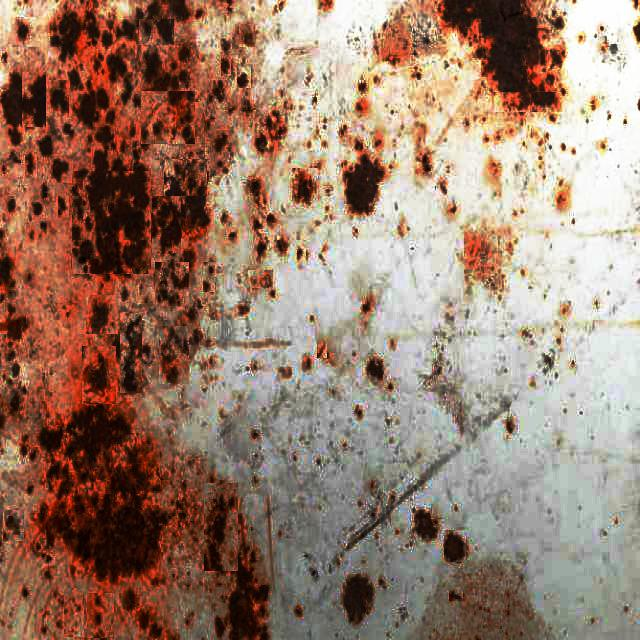Corrosion: (38, 406, 168, 582), (440, 0, 564, 108), (73, 152, 150, 274), (225, 517, 269, 640), (152, 196, 209, 255), (204, 484, 237, 572), (345, 154, 385, 212), (343, 575, 374, 626), (51, 9, 81, 58), (22, 74, 46, 126), (182, 196, 209, 241), (0, 72, 22, 126), (77, 91, 98, 126), (415, 511, 439, 540), (445, 533, 467, 564), (368, 359, 384, 380), (96, 89, 108, 108)
